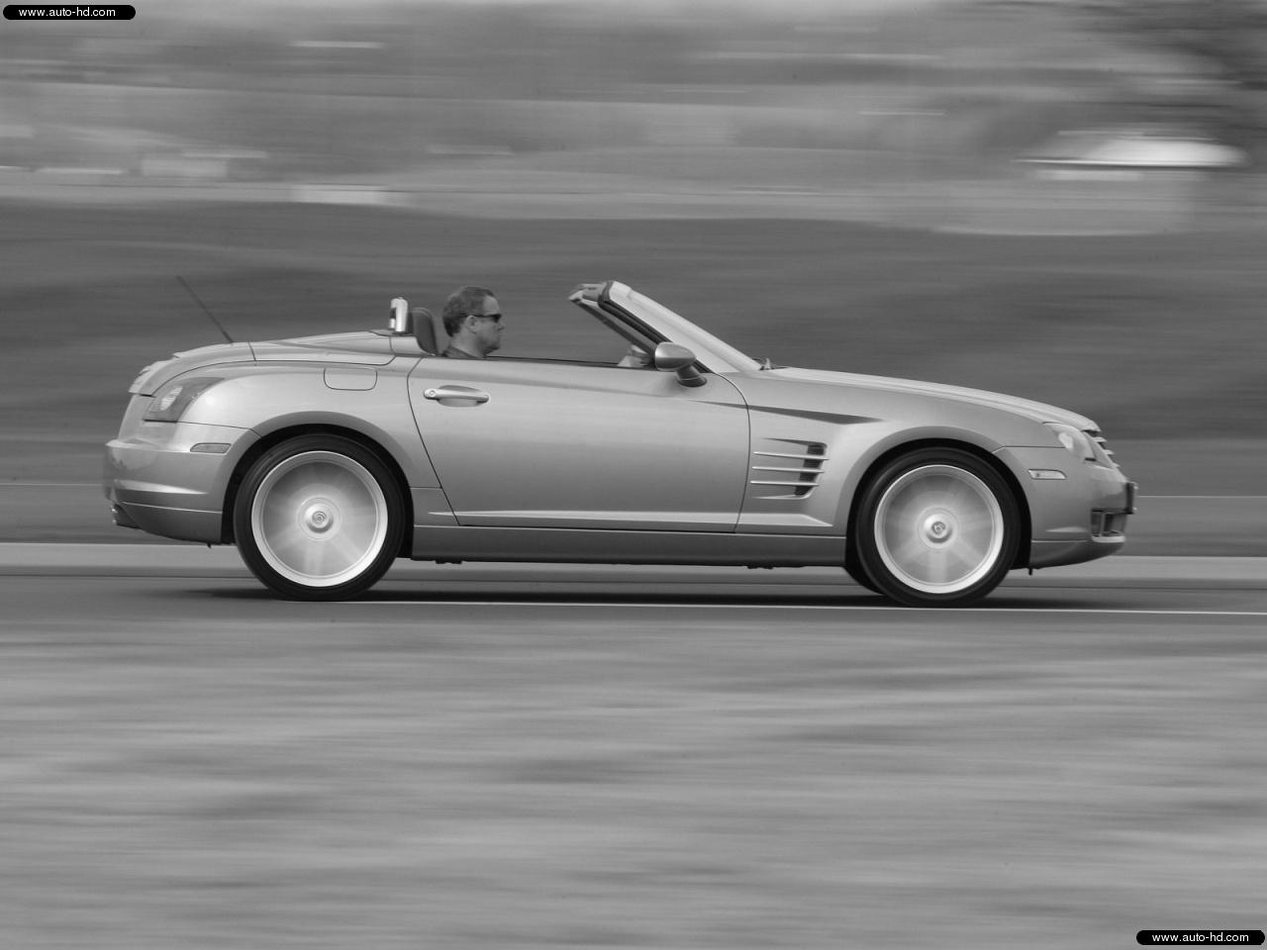car: (106, 276, 1134, 612)
